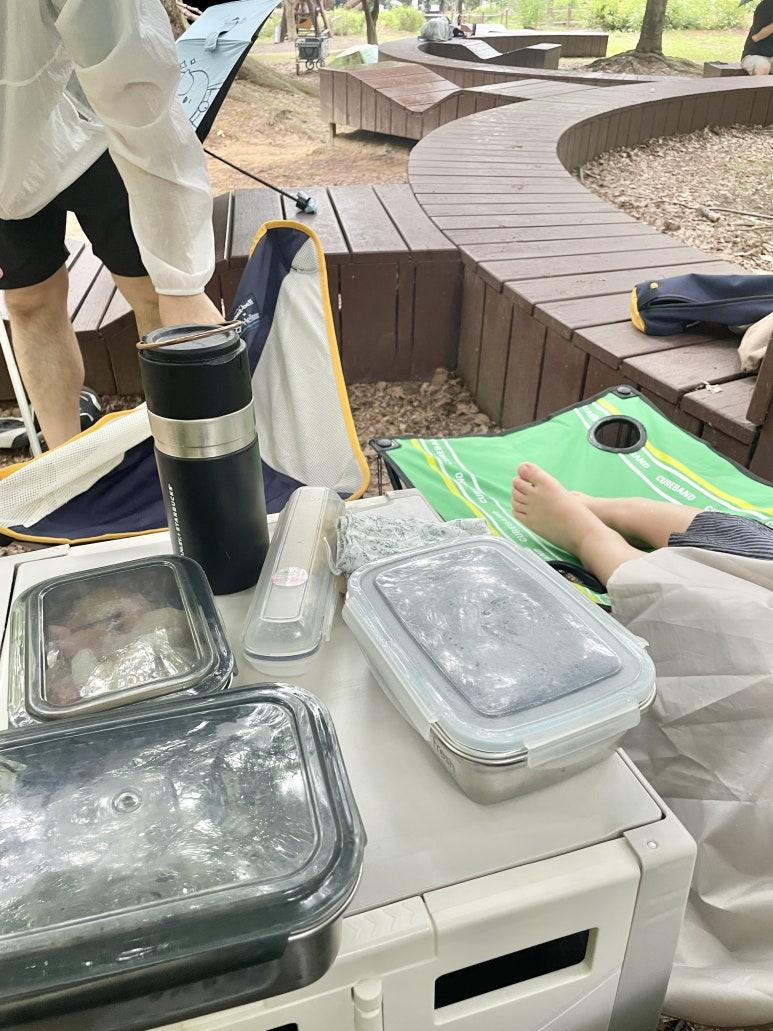Bottle: (139, 322, 268, 594), (242, 487, 343, 673)
Lunch Box: (0, 686, 364, 1030), (343, 535, 654, 803), (9, 556, 233, 725)
